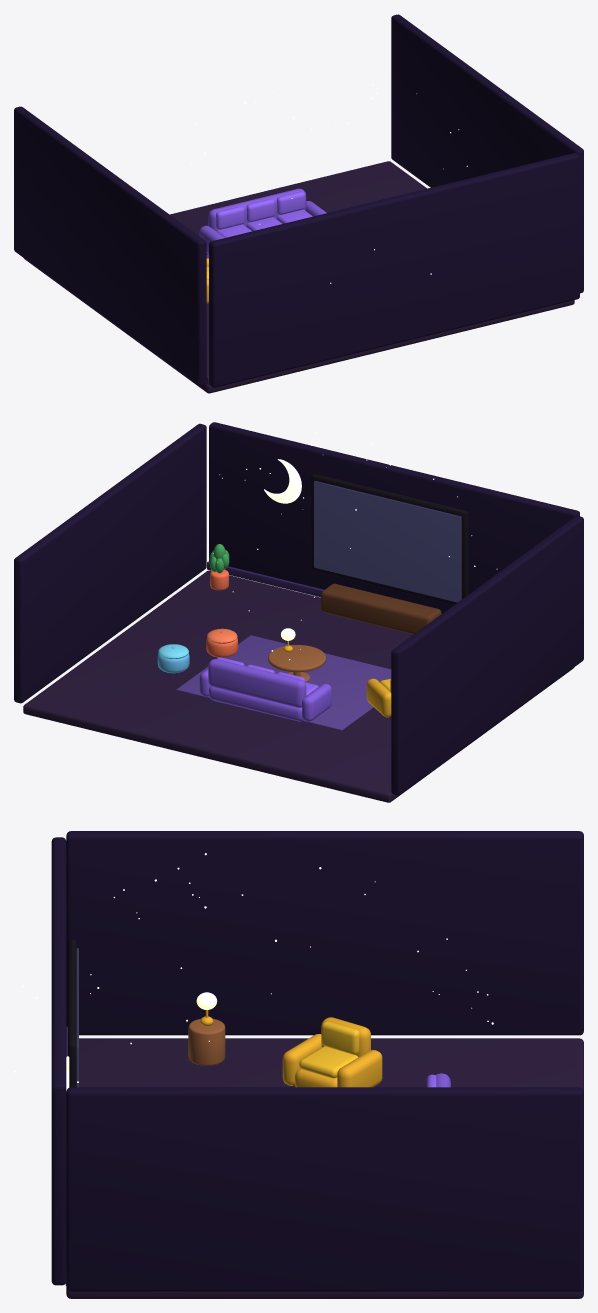
The model's file is room_living.glb.
The picture shows the model from 3 angles, top to bottom: view 1: azimuth 30°, elevation 25°; view 2: azimuth 150°, elevation 25°; view 3: azimuth 270°, elevation 25°; orthographic projection. The views are drawn at different scales.
Visible parts, largest first — view 1: Room, Sofa; view 2: Room, Screen, Sofa, Rug, TVStand, ScreenFrame, CoffeeTable, Pouf_Blue, Pouf_Orange, Armchair, Plant, NeonMoon; view 3: Room, Armchair, SideTable, ScreenFrame.
Boxes of the visible parts, x1,y1,x2,y2 form: Room: (14,14,583,393); Sofa: (199,188,326,254); Room: (14,422,583,802); Screen: (314,481,461,602); Sofa: (199,657,331,721); Rug: (176,635,391,730); TVStand: (321,583,441,634); ScreenFrame: (311,474,468,604); CoffeeTable: (268,645,326,681); Pouf_Blue: (157,644,189,673); Pouf_Orange: (206,628,237,657); Armchair: (366,678,391,717); Plant: (209,544,229,590); NeonMoon: (264,459,301,503); Room: (51,831,583,1298); Armchair: (282,1017,382,1087); SideTable: (188,1019,225,1065); ScreenFrame: (68,939,76,1087).
Bounding box in the file's own units: 8.4 × 4.51 × 7.71.
